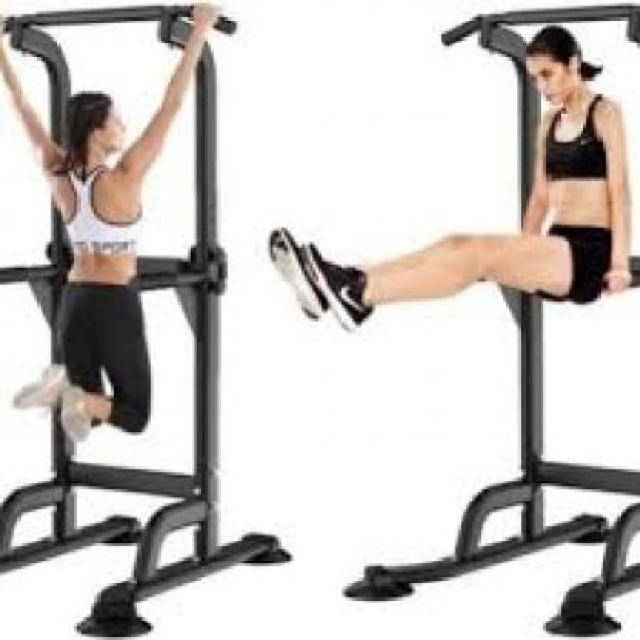chinning dipping: (0, 1, 272, 636)
